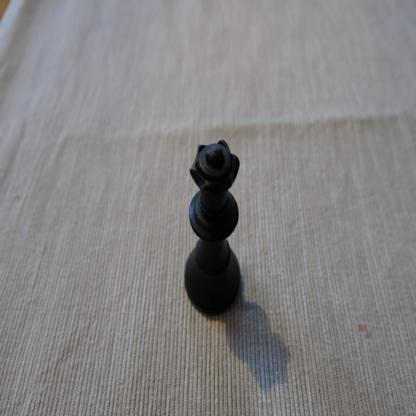black-queen: (184, 138, 242, 318)
